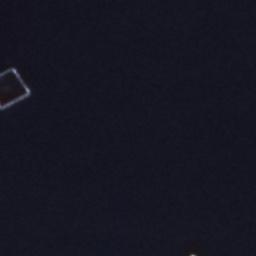square_solid: (1, 63, 34, 113)
